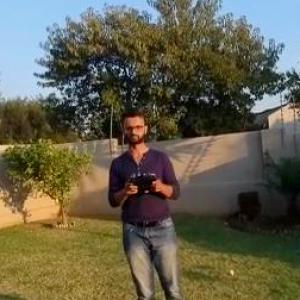follow: (102, 104, 190, 299)
